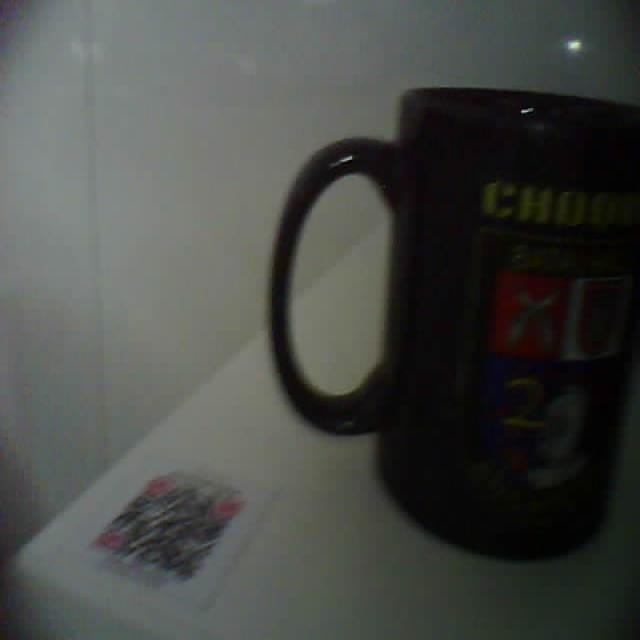caneca: (271, 88, 639, 556)
